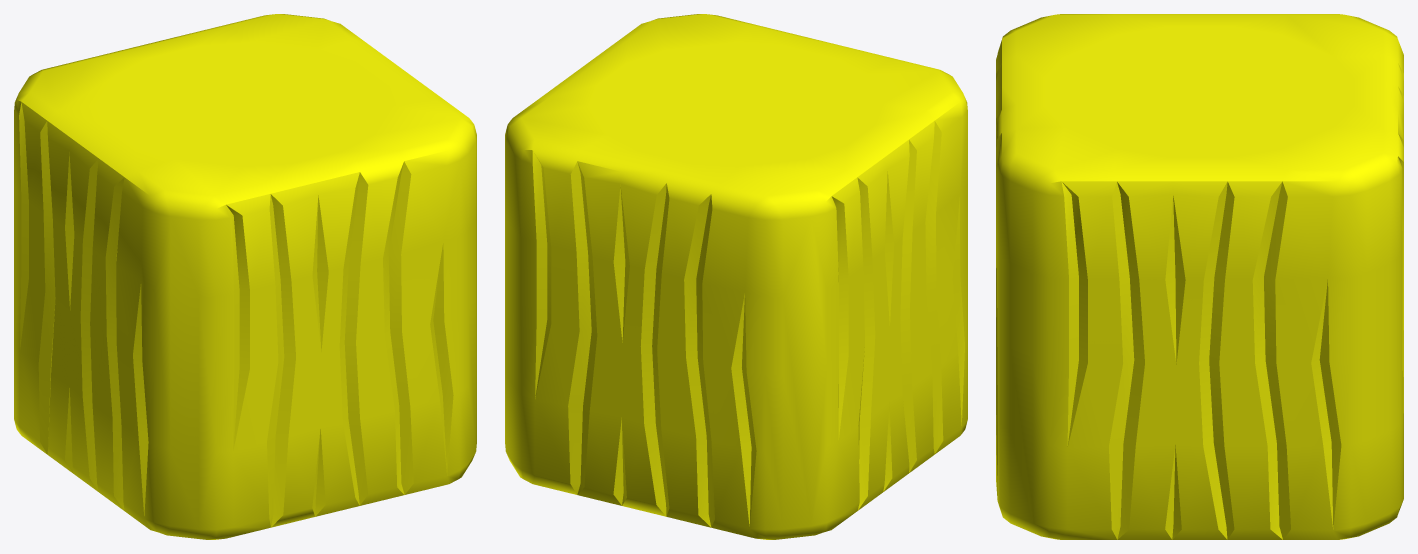
The model's file is kaykit-wood.glb.
3 renders of one model, left to right at view 1: azimuth 30°, elevation 25°; view 2: azimuth 150°, elevation 25°; view 3: azimuth 270°, elevation 25°, orthographic. The views are drawn at different scales.
Visible parts, largest first — view 1: wood; view 2: wood; view 3: wood.
Part boxes in pixels (x1=…): wood: x1=14, y1=14, x2=476, y2=539; wood: x1=505, y1=14, x2=967, y2=539; wood: x1=996, y1=14, x2=1403, y2=539.
Size of the model in its own units: 2 by 2 by 2.
